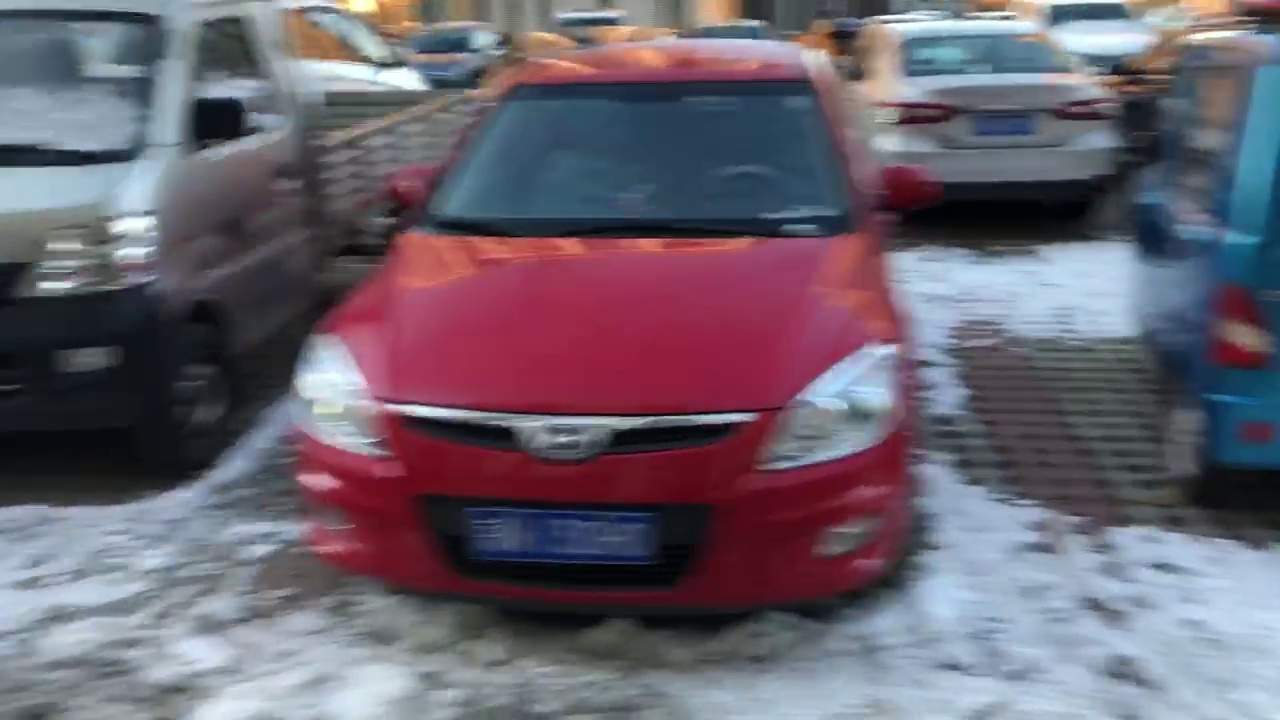plate: (463, 513, 662, 564)
